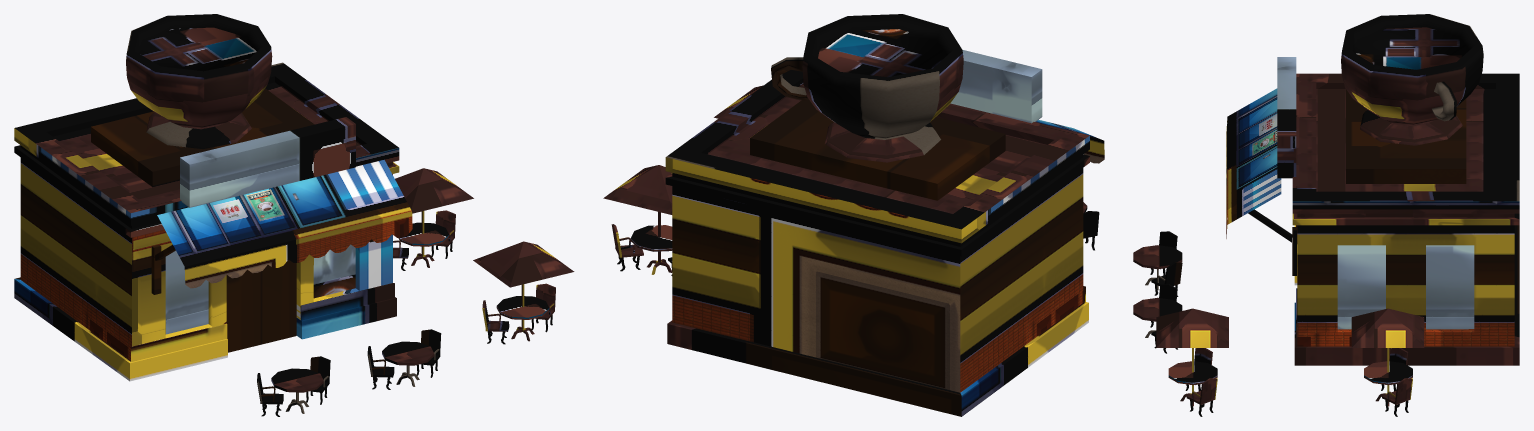
The model's file is cafe_fix_20180518_Final.fbx.
3 views of the same model, side by side, from view 1: azimuth 30°, elevation 25°; view 2: azimuth 150°, elevation 25°; view 3: azimuth 270°, elevation 25° (orthographic). The views are drawn at different scales.
Parts seen in each view (by area): view 1: building, cup, Cafe_top, signage, door, Cafe_Bottom, umbrella1, umbrella2, table3, table2, table1, table4 (+4 smaller); view 2: building, cup, signage, umbrella2, table4, chair4, chair1; view 3: building, cup, Cafe_top, umbrella2, umbrella1, signage, table4, table3, table1, chair3, chair4, table2 (+2 smaller).
Boxes of the visible parts, box(x1,y1,x2,y2) form: building: box(14, 62, 399, 381); cup: box(126, 14, 272, 148); Cafe_top: box(157, 159, 411, 266); signage: box(180, 117, 355, 207); door: box(226, 259, 296, 352); Cafe_Bottom: box(184, 211, 412, 288); umbrella1: box(473, 241, 574, 287); umbrella2: box(395, 168, 473, 213); table3: box(496, 284, 549, 341); table2: box(382, 341, 434, 386); table1: box(271, 368, 323, 413); table4: box(398, 211, 448, 267); building: box(665, 70, 1089, 416); cup: box(771, 14, 963, 162); signage: box(950, 50, 1042, 123); umbrella2: box(603, 165, 672, 214); table4: box(630, 212, 672, 274); chair4: box(611, 224, 672, 275); chair1: box(1083, 211, 1099, 250); building: box(1248, 73, 1519, 365); cup: box(1341, 14, 1483, 145); Cafe_top: box(1227, 88, 1281, 224); umbrella2: box(1351, 308, 1424, 347); umbrella1: box(1156, 308, 1228, 347); signage: box(1277, 57, 1296, 178); table4: box(1364, 348, 1412, 406); table3: box(1168, 348, 1217, 406); table1: box(1133, 245, 1182, 290); chair3: box(1185, 348, 1217, 416); chair4: box(1381, 348, 1412, 416); table2: box(1133, 297, 1182, 337).
Size of the model in its own units: 16.41 by 10.91 by 14.84.
